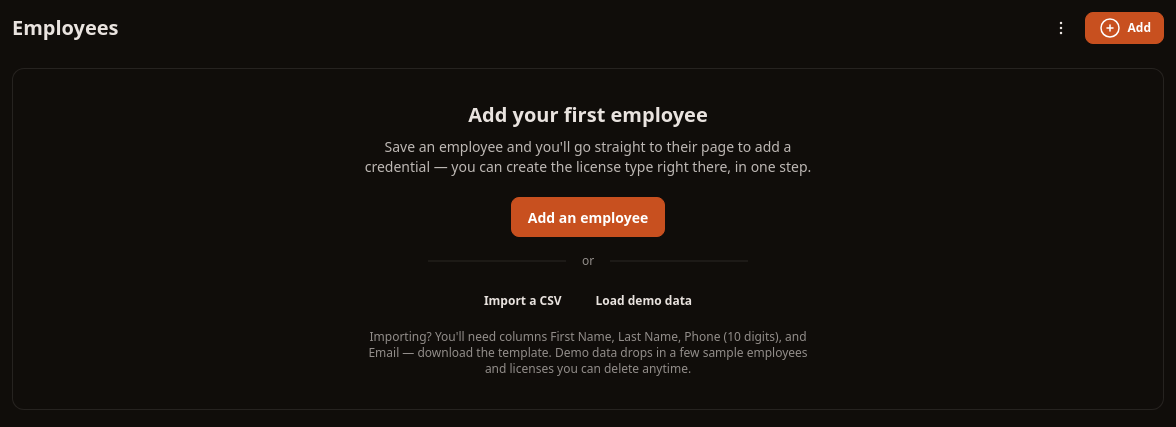
it: Employees demo data › loads demo data and refetches the list
The image size is (1176, 427).
Click the button "Load demo data": (644, 301) [583,285,705,317]
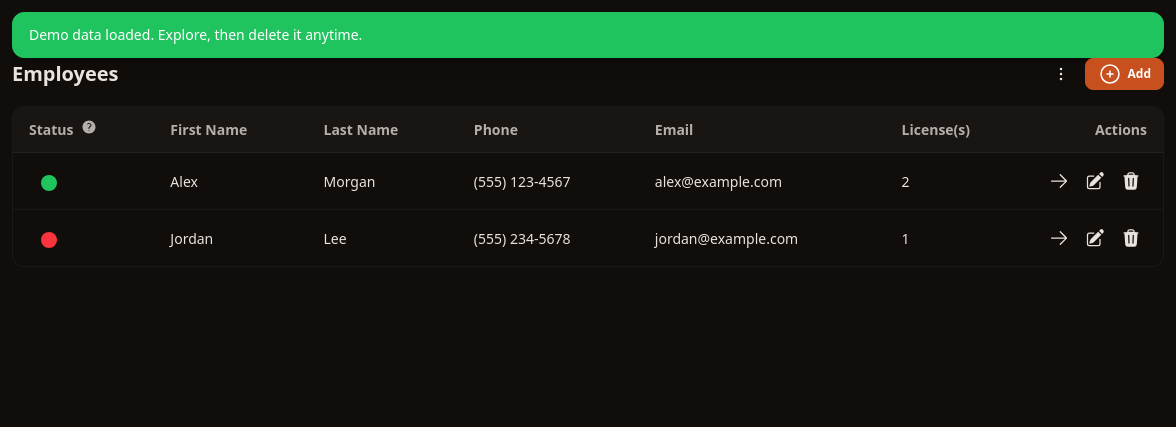
Result: the text "Alex" is shown at [154,153,307,210]
